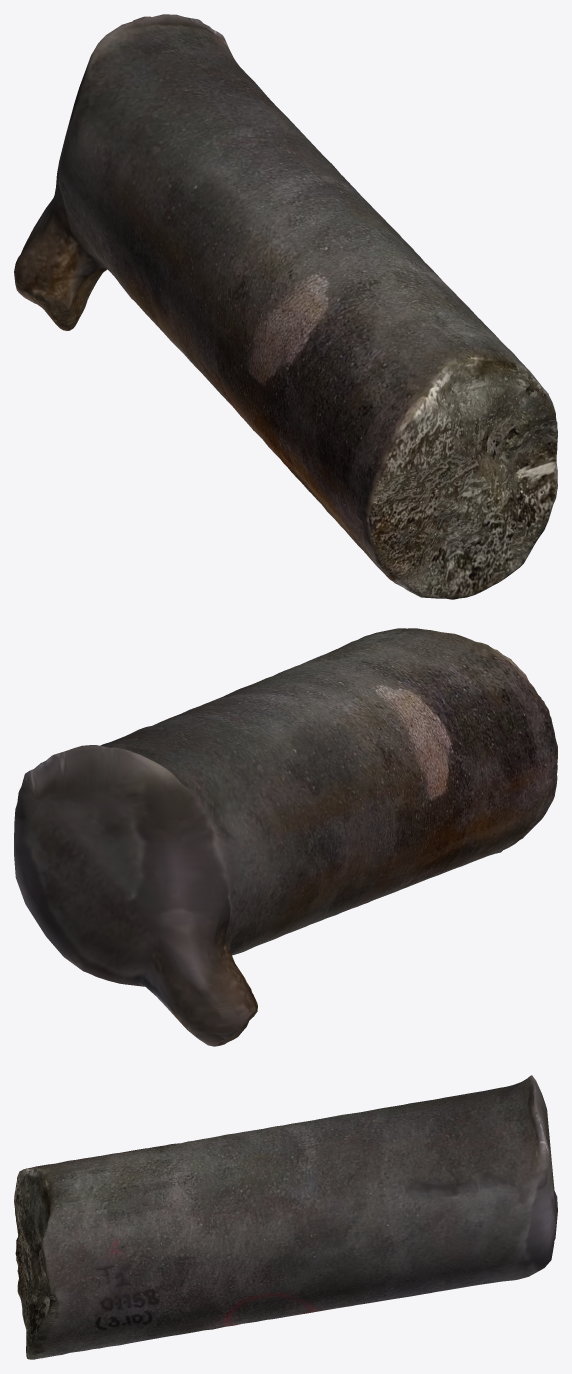
File: PECLD07758 T1.glb
3 views of the same model, one above another, from view 1: azimuth 30°, elevation 25°; view 2: azimuth 150°, elevation 25°; view 3: azimuth 270°, elevation 25° (orthographic). The views are drawn at different scales.
Visible parts, largest first — view 1: baked_mesh; view 2: baked_mesh; view 3: baked_mesh.
Boxes of the visible parts, x1=… form: baked_mesh: x1=14, y1=14, x2=557, y2=599; baked_mesh: x1=14, y1=628, x2=557, y2=1046; baked_mesh: x1=14, y1=1075, x2=557, y2=1359.
Size of the model in its own units: 0.2203 by 0.308 by 0.5668.
1 material, 1 textured.
